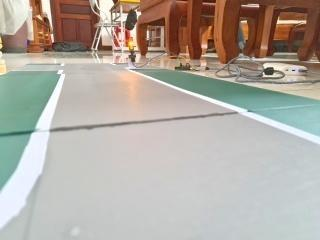yellow: (123, 33, 140, 54)
